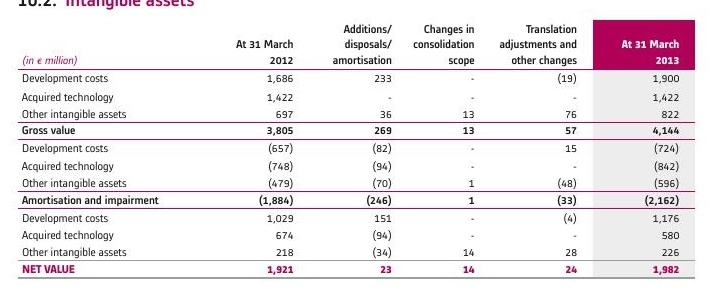table: (0, 0, 711, 296)
